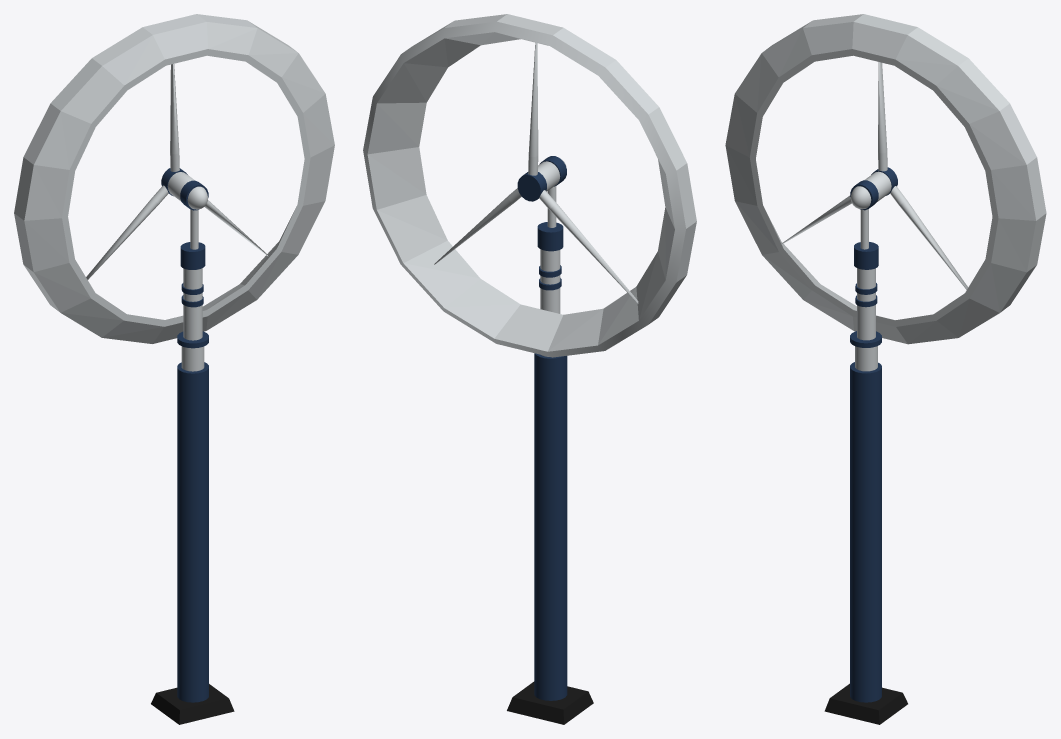
Rendered from Wind Turbine 3.FBX.
The picture shows the model from 3 angles, left to right: view 1: azimuth 30°, elevation 25°; view 2: azimuth 150°, elevation 25°; view 3: azimuth 330°, elevation 25°; orthographic projection. The views are drawn at different scales.
Visible parts, largest first — view 1: Box002; view 2: Box002; view 3: Box002.
Part boxes in pixels (left/top/right/bottom): Box002: left=14, top=14, right=334, bottom=724; Box002: left=363, top=14, right=696, bottom=724; Box002: left=725, top=14, right=1046, bottom=724.
Bounding box in the file's own units: 35.03 × 72.16 × 8.15.
